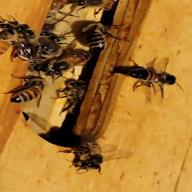Bee: (118, 60, 187, 96), (37, 51, 106, 77), (8, 73, 55, 108), (78, 23, 116, 51)
